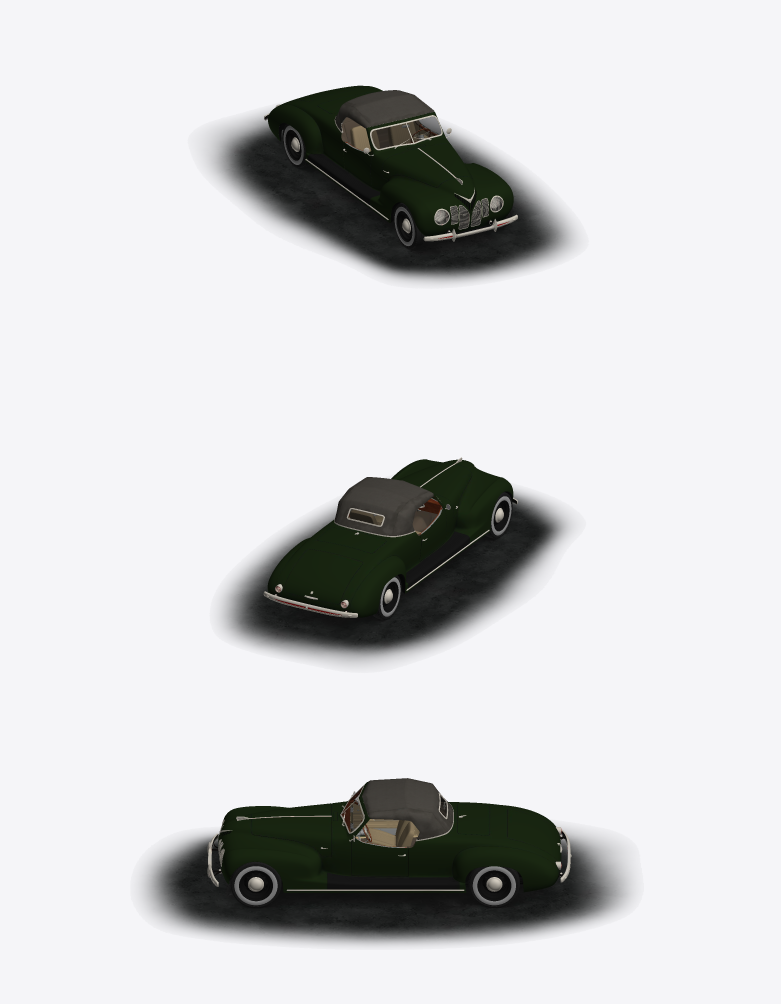
File: sports.glb
3 views of the same model, one above another, from view 1: azimuth 30°, elevation 25°; view 2: azimuth 150°, elevation 25°; view 3: azimuth 270°, elevation 25° (orthographic). The views are drawn at different scales.
Parts seen in each view (by area): view 1: floor_floor01_0, Object001_body01_0, Body_body01_0, roof_roof01_0, interior_intr01_0, wingshild_Glass_0, FrontWheelR_frwheel01_0, DoorR_body01_0, RearWheelR_rwheel01_0; view 2: floor_floor01_0, Object001_body01_0, roof_roof01_0, Body_body01_0, interior_intr01_0, FrontWheelR_frwheel01_0, DoorR_body01_0, RearWheelR_rwheel01_0; view 3: floor_floor01_0, Object001_body01_0, roof_roof01_0, Body_body01_0, FrontWheelL_frwheel01_0, DoorL_body01_0, RearWheelL_rwheel01_0, interior_intr01_0, IndoorR_intr01_0, wingshild_Glass_0.
Part boxes in pixels (x1,y1,x2,y2): floor_floor01_0: [209, 112, 573, 281]; Object001_body01_0: [268, 85, 513, 236]; Body_body01_0: [264, 113, 517, 241]; roof_roof01_0: [334, 90, 434, 132]; interior_intr01_0: [341, 117, 423, 151]; wingshild_Glass_0: [372, 117, 441, 148]; FrontWheelR_frwheel01_0: [393, 202, 424, 249]; DoorR_body01_0: [343, 142, 371, 186]; RearWheelR_rwheel01_0: [282, 124, 309, 167]; floor_floor01_0: [222, 490, 569, 662]; Object001_body01_0: [267, 459, 513, 617]; roof_roof01_0: [334, 477, 433, 537]; Body_body01_0: [263, 457, 517, 617]; interior_intr01_0: [349, 496, 442, 535]; FrontWheelR_frwheel01_0: [485, 492, 512, 538]; DoorR_body01_0: [419, 508, 446, 561]; RearWheelR_rwheel01_0: [373, 575, 401, 619]; floor_floor01_0: [144, 830, 628, 944]; Object001_body01_0: [218, 782, 561, 892]; roof_roof01_0: [362, 778, 453, 841]; Body_body01_0: [207, 785, 571, 890]; FrontWheelL_frwheel01_0: [230, 861, 281, 907]; DoorL_body01_0: [351, 838, 408, 876]; RearWheelL_rwheel01_0: [468, 866, 519, 907]; interior_intr01_0: [341, 786, 446, 847]; IndoorR_intr01_0: [350, 800, 399, 835]; wingshild_Glass_0: [341, 787, 363, 831].
Size of the model in its own units: 6.95 by 1.45 by 10.48.
16 materials, 10 textured.
